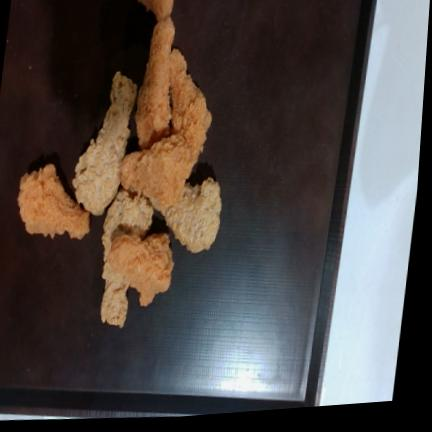chicken: (73, 72, 137, 215), (101, 189, 153, 327), (18, 164, 90, 239), (121, 135, 193, 210), (135, 17, 175, 149), (170, 49, 212, 171), (107, 233, 174, 306), (160, 178, 221, 253)
